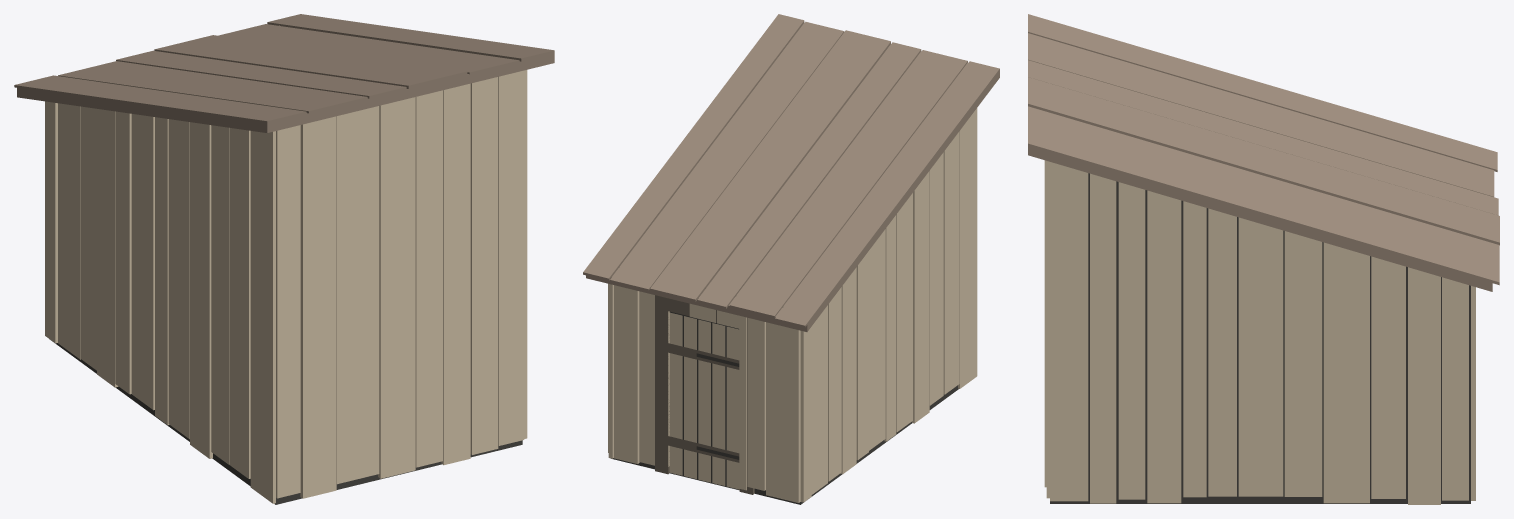
The model's file is recon_1835_blk_washington_market_a5_14__inferred_1835.glb.
3 views of the same model, side by side, from view 1: azimuth 30°, elevation 25°; view 2: azimuth 150°, elevation 25°; view 3: azimuth 270°, elevation 25° (orthographic). The views are drawn at different scales.
Visible parts, largest first — view 1: recon_1835_blk_washington_market_a5_14__inferred_1835; view 2: recon_1835_blk_washington_market_a5_14__inferred_1835; view 3: recon_1835_blk_washington_market_a5_14__inferred_1835.
Part boxes in pixels (x1,y1,x2,y2): recon_1835_blk_washington_market_a5_14__inferred_1835: (14, 14, 554, 504); recon_1835_blk_washington_market_a5_14__inferred_1835: (583, 14, 999, 504); recon_1835_blk_washington_market_a5_14__inferred_1835: (1028, 14, 1499, 504).
Size of the model in its own units: 2.67 by 3.53 by 4.08.
